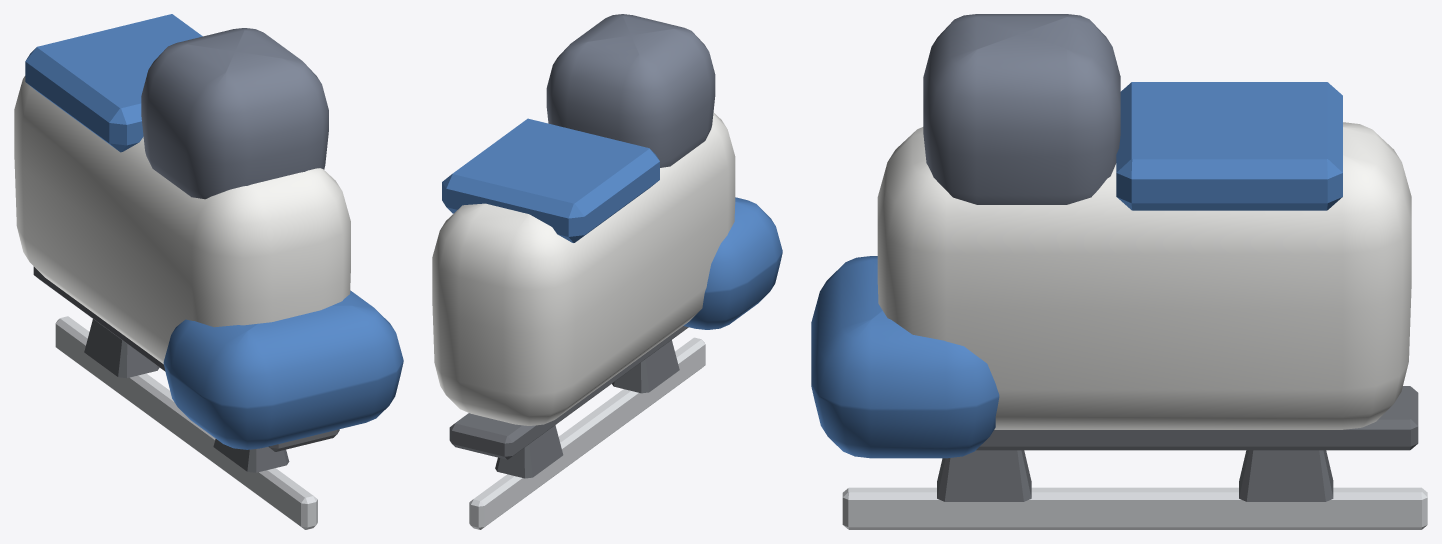
File: ice-hockey-arena-and-locker-room-goalie-skate-251a6e36__33722.glb
The picture shows the model from 3 angles, left to right: view 1: azimuth 30°, elevation 25°; view 2: azimuth 150°, elevation 25°; view 3: azimuth 270°, elevation 25°; orthographic projection. The views are drawn at different scales.
Parts seen in each view (by area): view 1: goalie-skate; view 2: goalie-skate; view 3: goalie-skate.
Boxes of the visible parts, left/top/right/bottom form: goalie-skate: left=14, top=14, right=403, bottom=529; goalie-skate: left=432, top=14, right=782, bottom=529; goalie-skate: left=811, top=14, right=1427, bottom=529.
Size of the model in its own units: 0.1385 by 0.289 by 0.3268.
